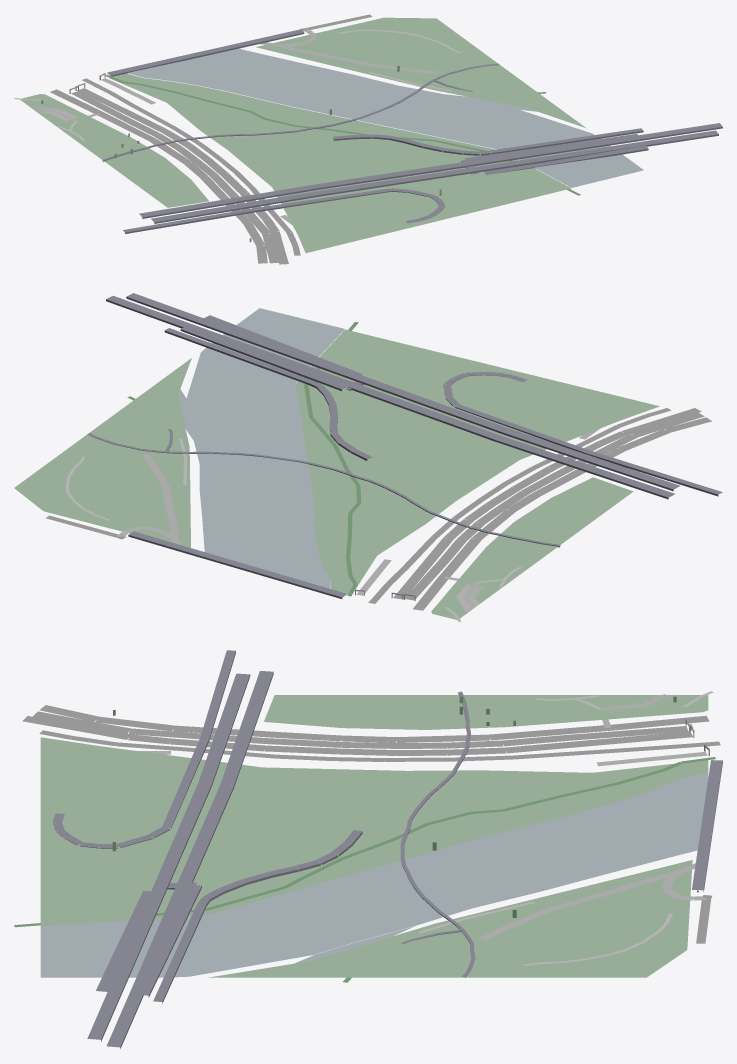
3 views of the same model, one above another, from view 1: azimuth 30°, elevation 25°; view 2: azimuth 150°, elevation 25°; view 3: azimuth 270°, elevation 25° (orthographic). The views are drawn at different scales.
Bounding box in the file's own units: 704 × 10.04 × 531.
